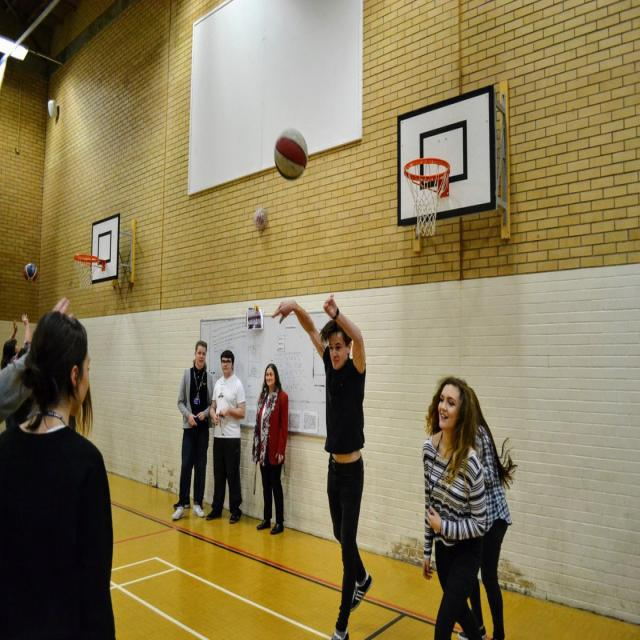body: (0, 304, 124, 639), (268, 290, 376, 640), (422, 374, 488, 640), (457, 385, 515, 640), (0, 290, 75, 429), (169, 338, 215, 524), (204, 347, 247, 526), (250, 362, 291, 538), (172, 484, 208, 514)
